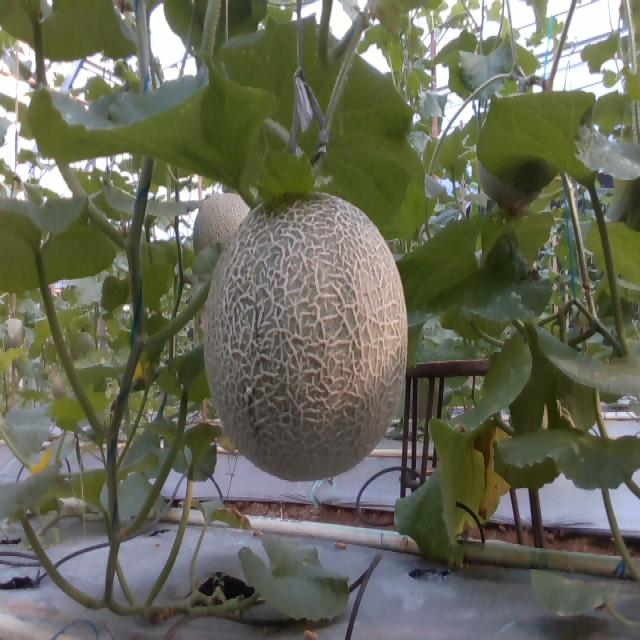melon: (205, 192, 408, 481)
